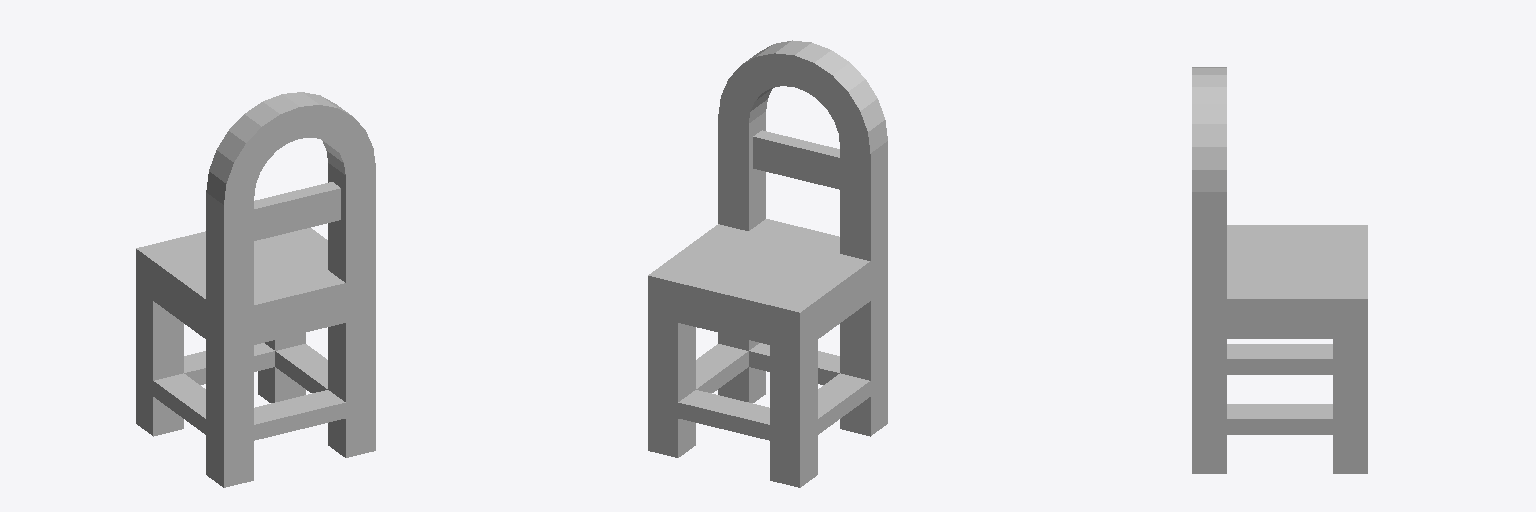
The model's file is chairRounded.obj.
The picture shows the model from 3 angles: view 1: azimuth 30°, elevation 25°; view 2: azimuth 150°, elevation 25°; view 3: azimuth 270°, elevation 25°; orthographic projection.
Visible parts, largest first — view 1: chairRounded; view 2: chairRounded; view 3: chairRounded.
Boxes of the visible parts, x1,y1,x2,y2 form: chairRounded: [136, 92, 375, 487]; chairRounded: [648, 40, 887, 487]; chairRounded: [1192, 67, 1367, 473].
Bounding box in the file's own units: 2 × 4.55 × 2.